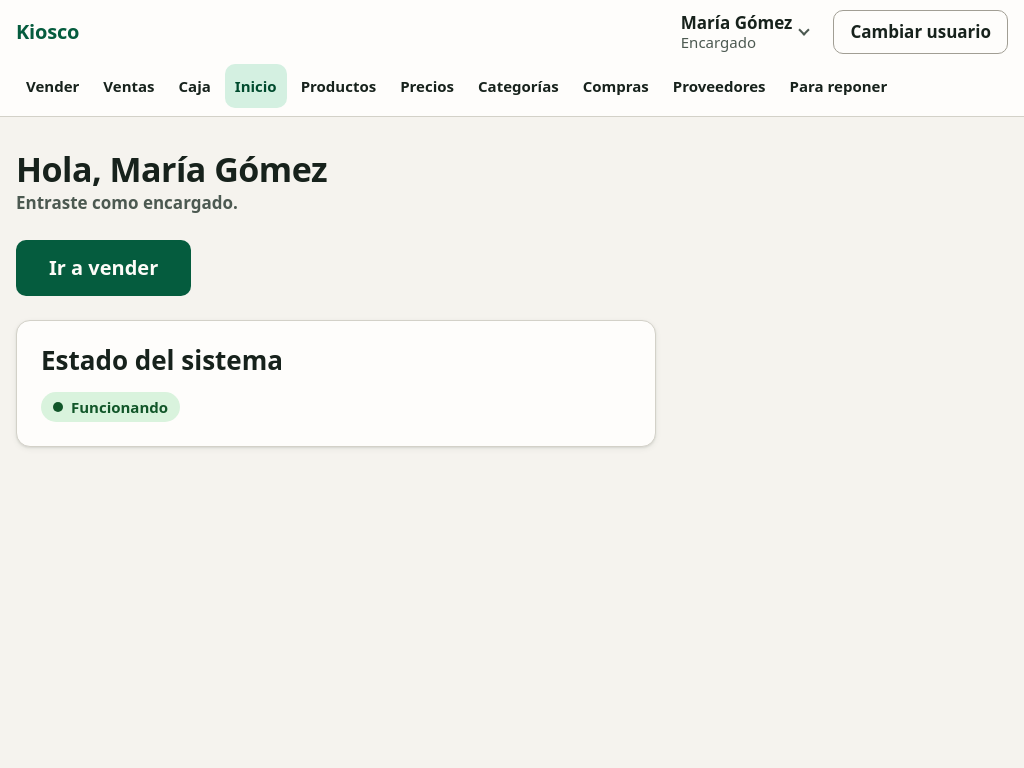
Test: Cambiar mi contraseña (modo voluntario) › se llega desde la barra superior, se puede cancelar y vuelve de donde venía
The width and height of the screenshot is (1024, 768).
Click the button with aria-label "Mi cuenta" at point(745, 32), box [668, 8, 821, 56]
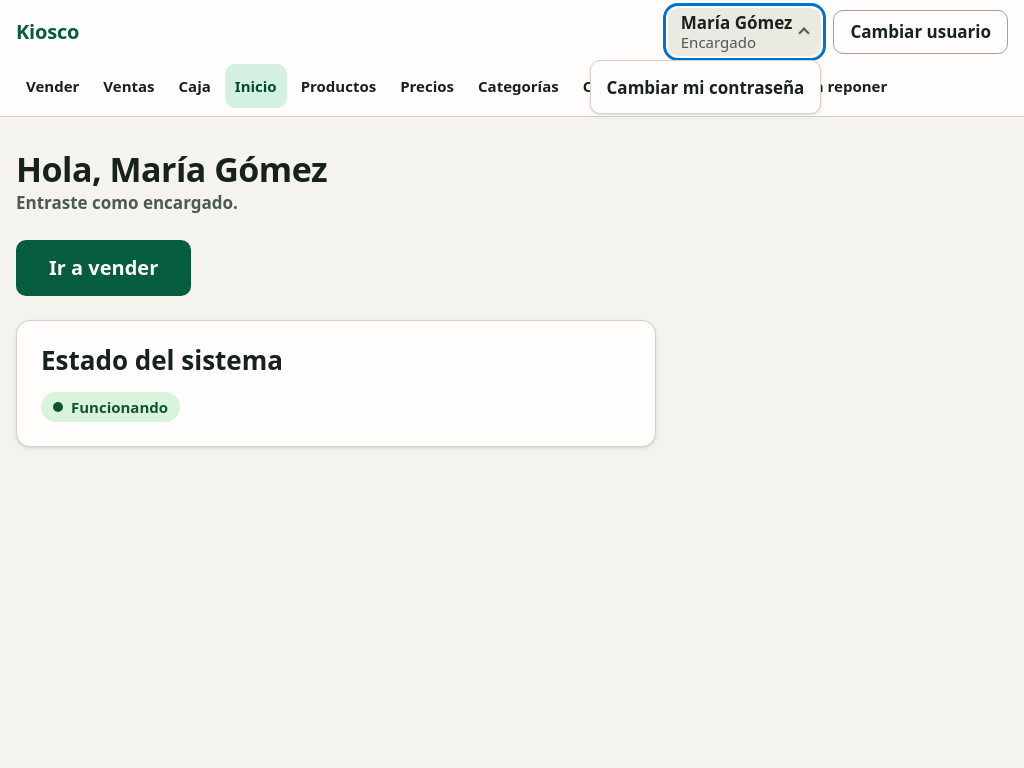
Click the link "Cambiar mi contraseña" at point(705, 87), box [606, 76, 804, 99]
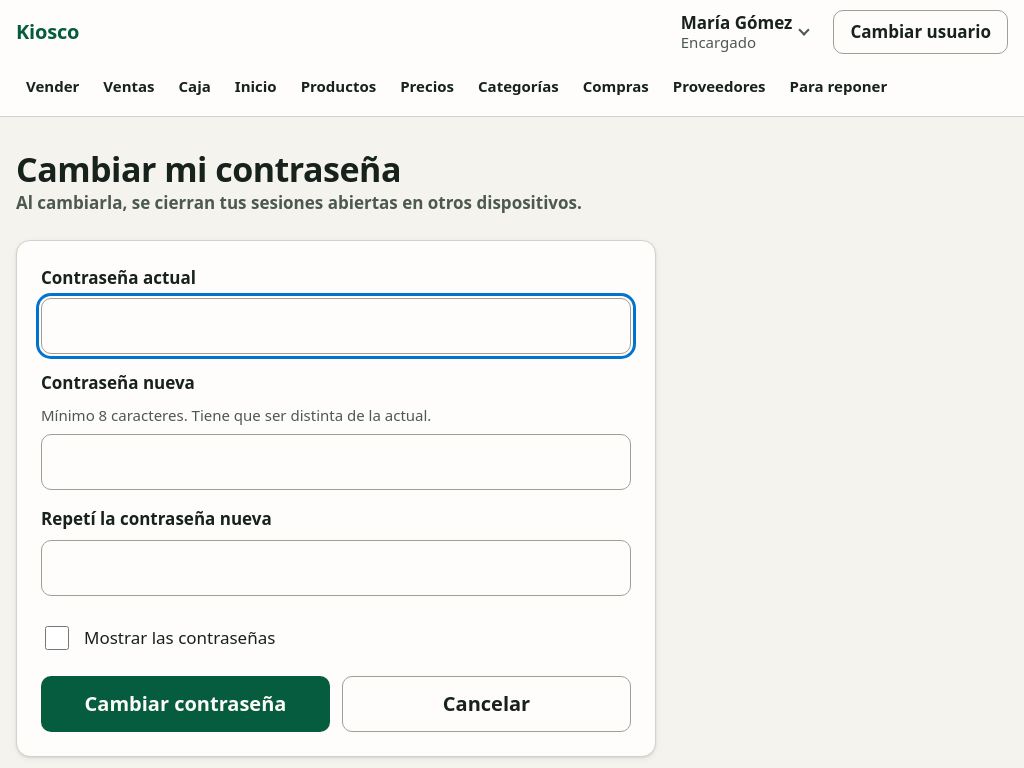
Expected: the navigation bar named "Principal" is shown, [26, 76, 887, 96]
Expected: the heading "Cambiar mi contraseña" is shown, [16, 146, 401, 192]
Click the link "Cancelar" at point(486, 704), box [342, 676, 631, 732]
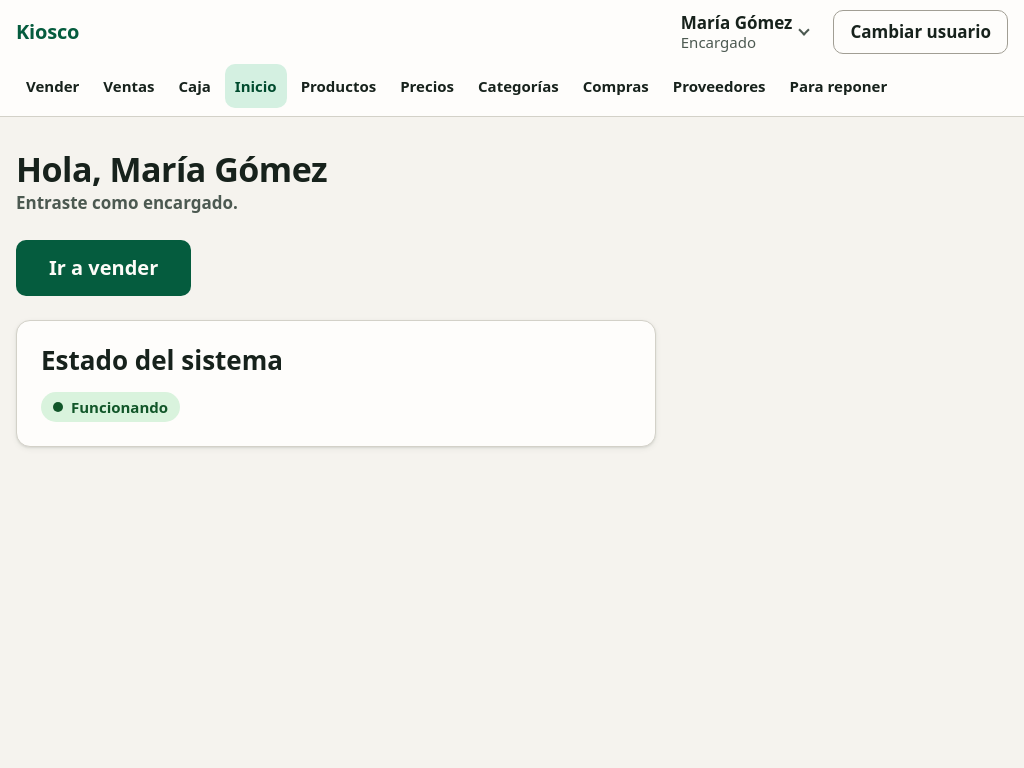
Expected: the heading "Hola, María Gómez" is shown, [16, 146, 327, 192]
